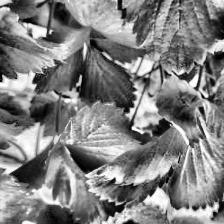Powdery Mildew Leaf: (85, 124, 186, 210)
